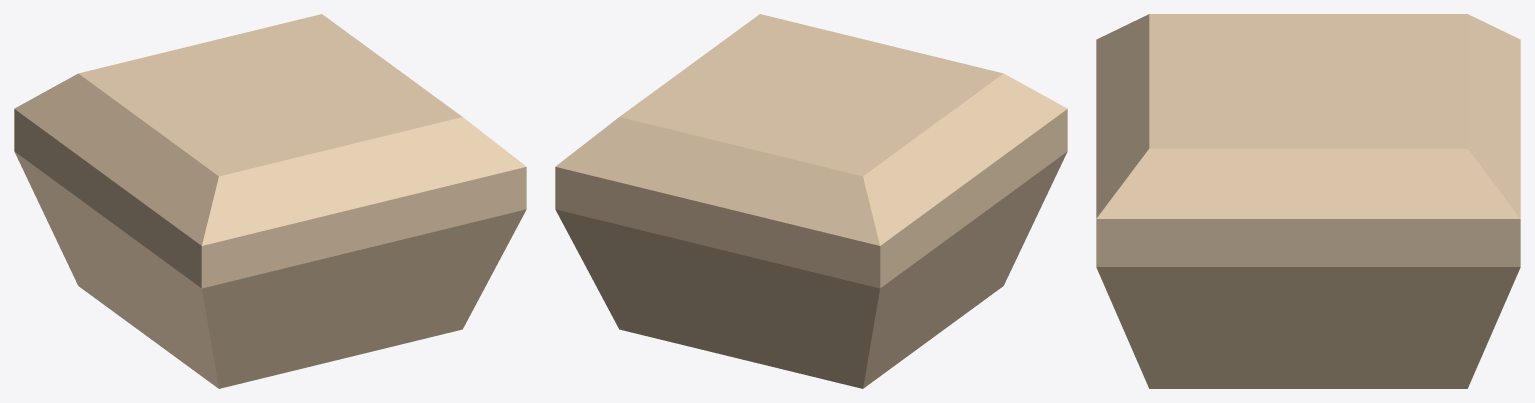
The picture shows the model from 3 angles, left to right: view 1: azimuth 30°, elevation 25°; view 2: azimuth 150°, elevation 25°; view 3: azimuth 270°, elevation 25°; orthographic projection. The views are drawn at different scales.
Visible parts, largest first — view 1: object2; view 2: object2; view 3: object2.
Boxes of the visible parts, bbox=[...] form: object2: bbox=[14, 14, 526, 388]; object2: bbox=[555, 14, 1067, 388]; object2: bbox=[1096, 14, 1520, 388].
Size of the model in its own units: 0.4 by 0.25 by 0.4.
